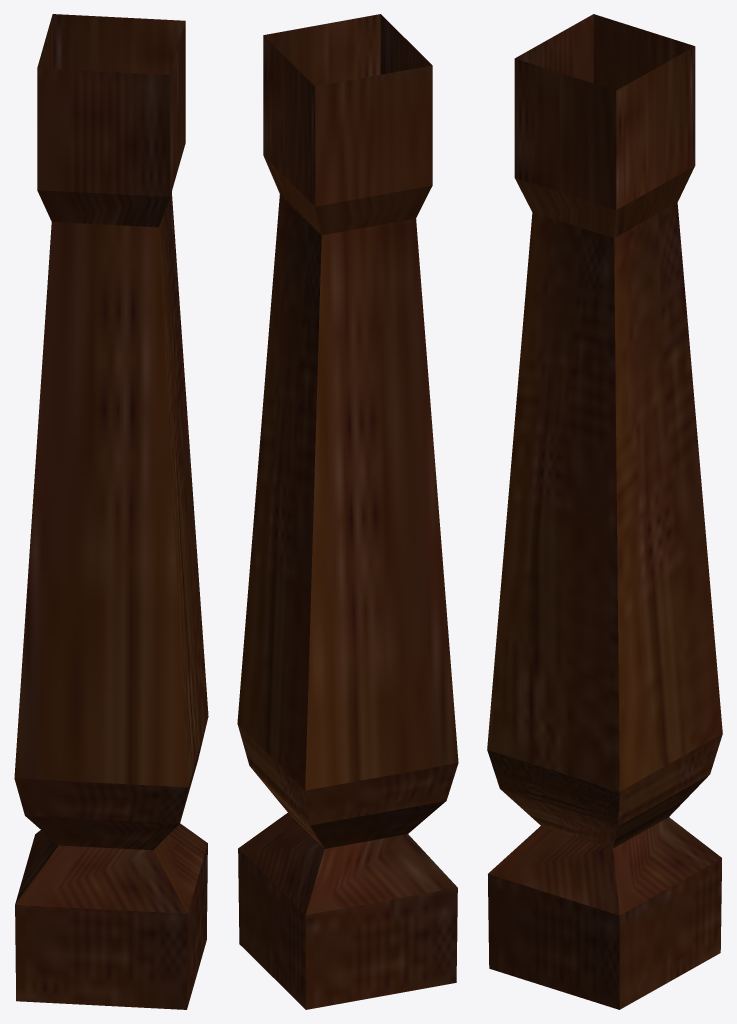
Rendered from Rails Pillar.fbx.
The picture shows the model from 3 angles, left to right: view 1: azimuth 30°, elevation 25°; view 2: azimuth 150°, elevation 25°; view 3: azimuth 270°, elevation 25°; orthographic projection.
Parts seen in each view (by area): view 1: PorchRailLower.003; view 2: PorchRailLower.003; view 3: PorchRailLower.003.
Boxes of the visible parts, <box> form: PorchRailLower.003: <box>14,14,208,1009</box>; PorchRailLower.003: <box>237,14,458,1009</box>; PorchRailLower.003: <box>487,14,722,1009</box>.
Size of the model in its own units: 25.31 by 107 by 25.18.
